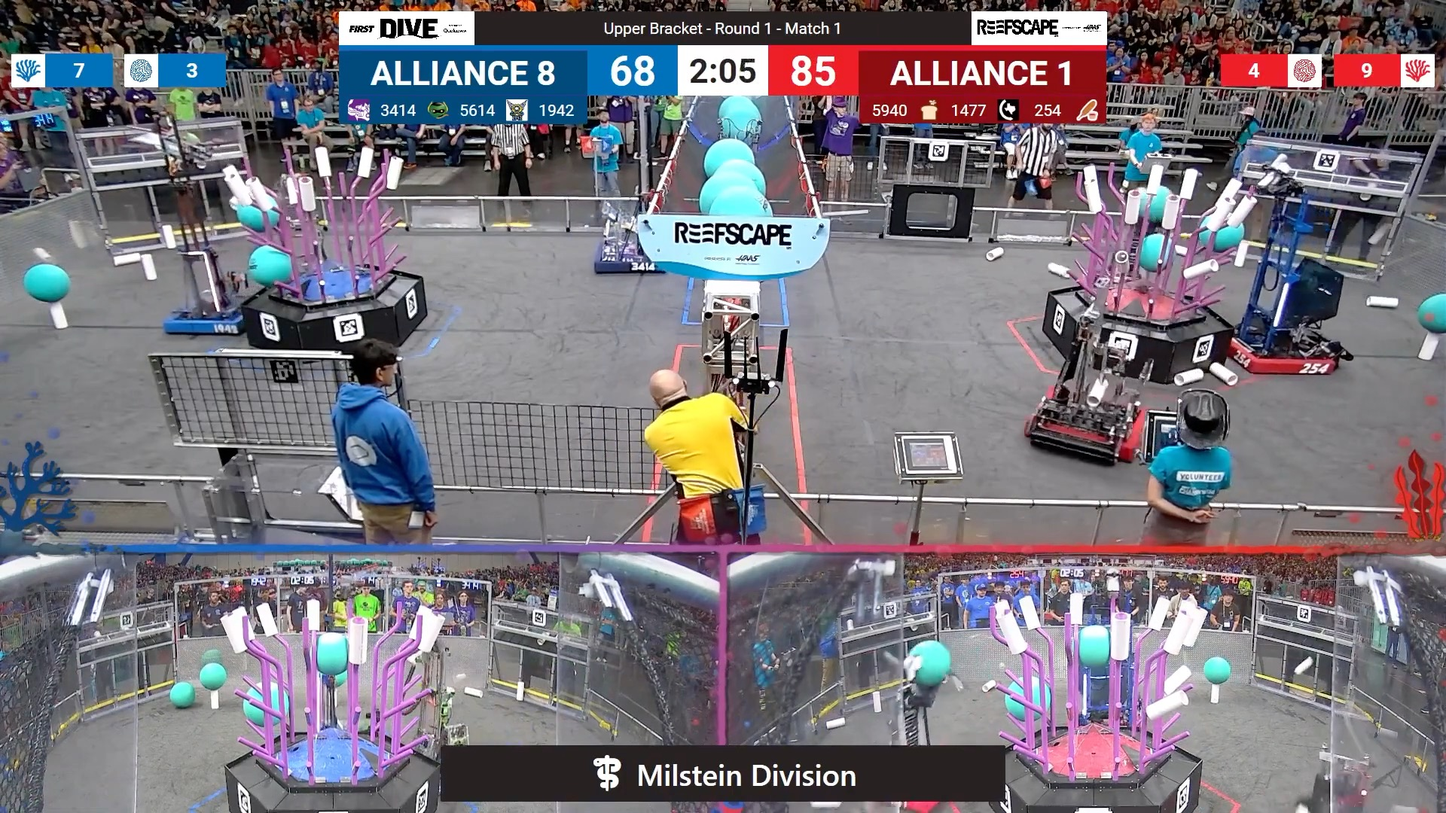bumpers: (1015, 394, 1158, 467), (1221, 329, 1345, 383), (157, 291, 258, 341), (585, 236, 673, 274)
